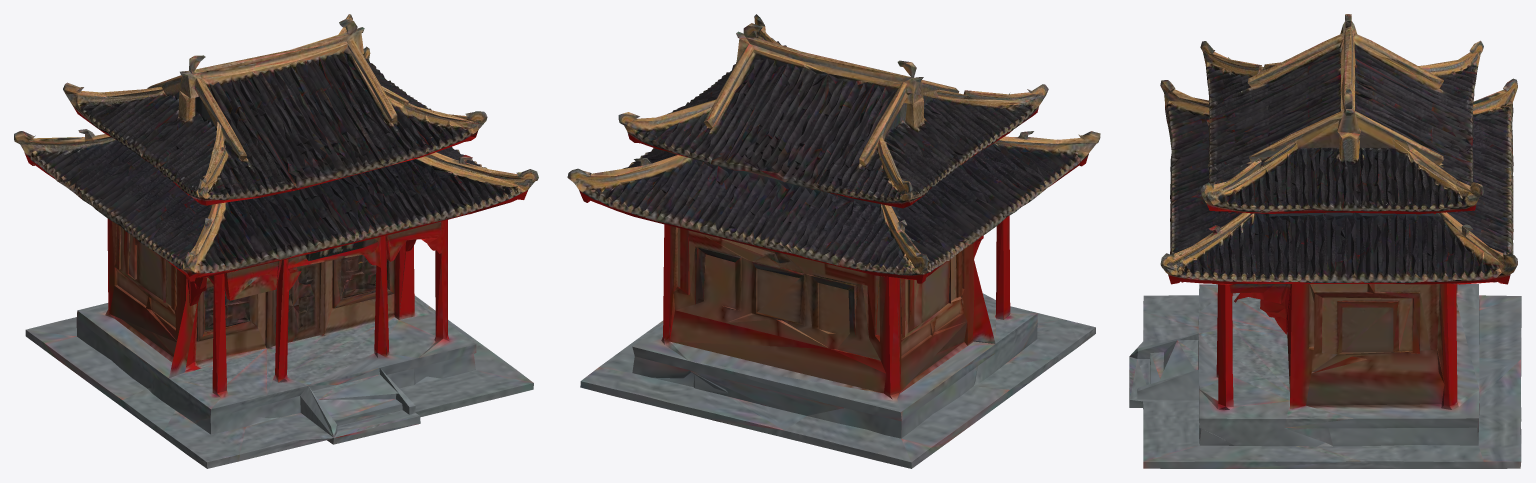
File: library.glb
3 views of the same model, side by side, from view 1: azimuth 30°, elevation 25°; view 2: azimuth 150°, elevation 25°; view 3: azimuth 270°, elevation 25° (orthographic). The views are drawn at different scales.
Visible parts, largest first — view 1: output_unwrapped; view 2: output_unwrapped; view 3: output_unwrapped.
Part boxes in pixels (x1=…): output_unwrapped: x1=14, y1=14, x2=538, y2=468; output_unwrapped: x1=567, y1=14, x2=1100, y2=468; output_unwrapped: x1=1129, y1=14, x2=1521, y2=468.
Size of the model in its own units: 1.9 by 1.63 by 1.74.
Materials: 1 (1 with a texture image).
